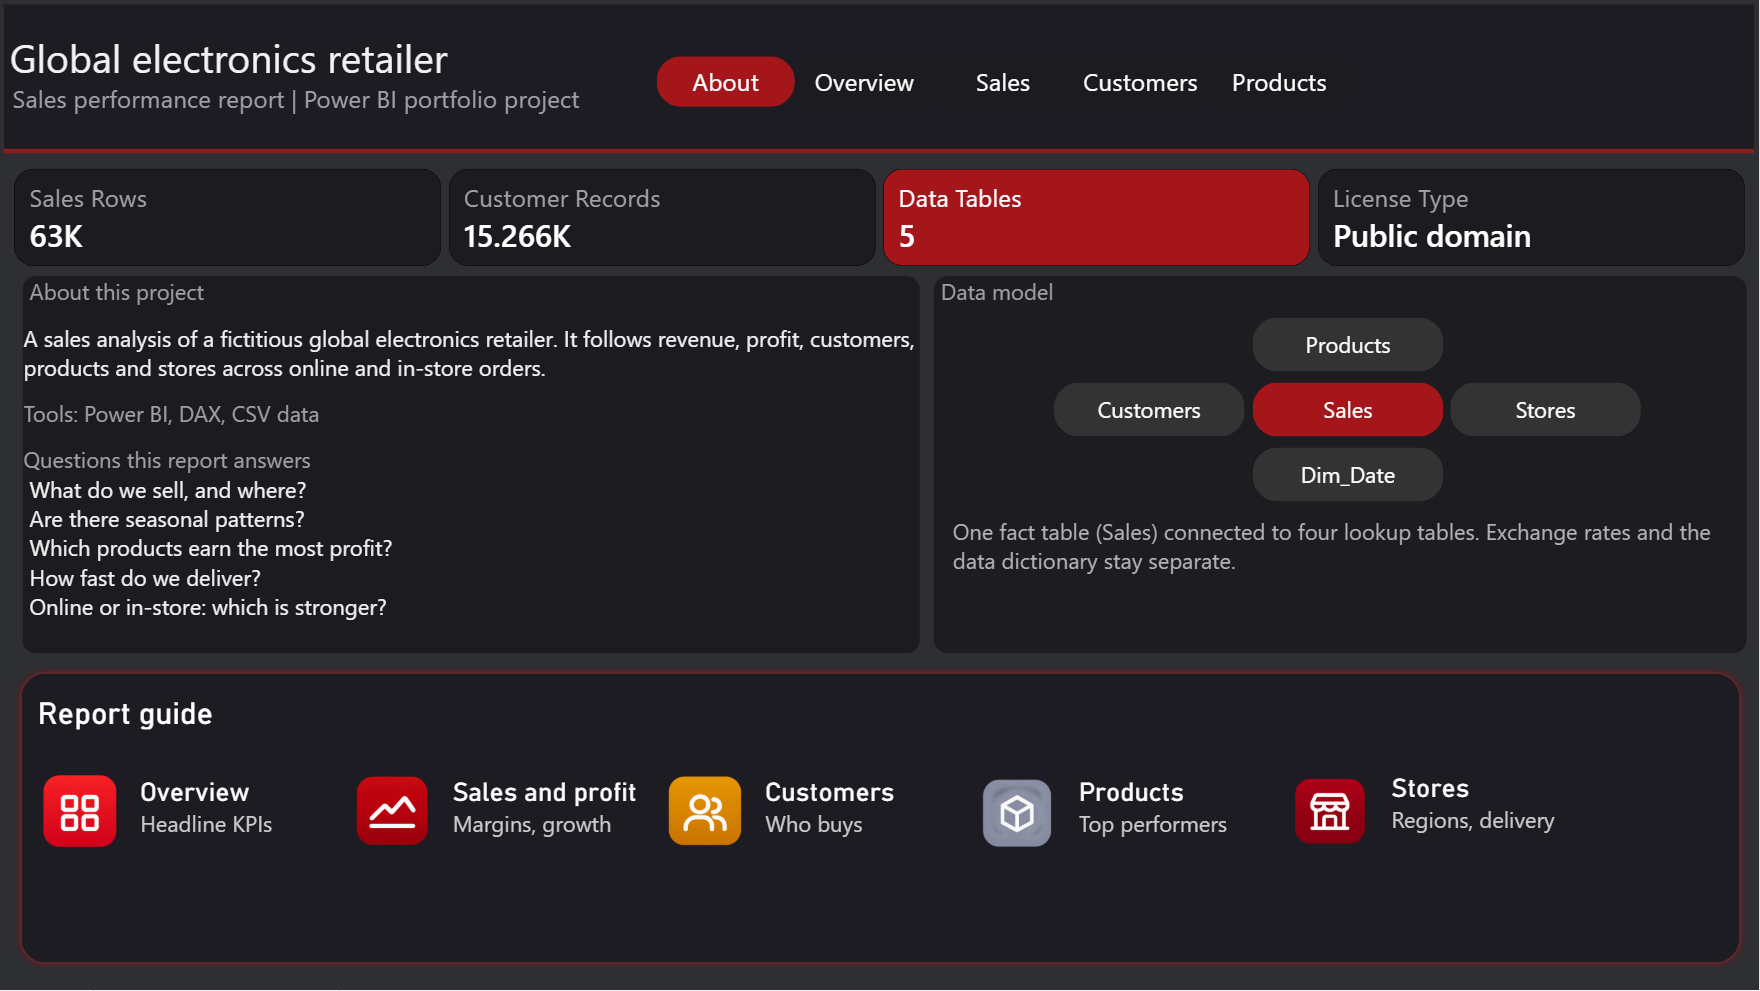

What the dashboard file says about the page in this screenshot:
{"tool":"powerbi","page":{"name":"About","canvas":[1920,1080],"ordinal":0},"visuals":[{"type":"shape","box":[0,0,1919.6,167.5],"z":0},{"type":"textbox","box":[0,33.1,1919.6,134.4],"z":1000},{"type":"actionButton","box":[717.8,60.7,150.9,55.2],"z":2000},{"type":"actionButton","box":[868.7,60.7,150.9,55.2],"z":3000},{"type":"actionButton","box":[1019.6,60.7,150.9,55.2],"z":4000},{"type":"actionButton","box":[1170.6,60.7,150.9,55.2],"z":5000},{"type":"actionButton","box":[1321.5,60.7,150.9,55.2],"z":6000},{"type":"cardVisual","fields":{"Data":["Sales.Sales Rows","Sales.Customer Records","Customers.Data Tables","Customers.License Type"]},"box":[16.6,184.1,1890.2,106.7],"z":8000},{"type":"textbox","box":[26.2,301.2,978.8,411.2],"z":9000},{"type":"textbox","box":[1020,301.2,886.2,411.2],"z":10000},{"type":"actionButton","box":[1367.5,417.8,208,58.9],"z":11000},{"type":"actionButton","box":[1150.3,417.8,208,58.9],"z":12000},{"type":"actionButton","box":[1367.5,487.7,208,58.9],"z":13000},{"type":"actionButton","box":[1582.8,417.8,208,58.9],"z":14000},{"type":"actionButton","box":[1367.5,346,208,58.9],"z":15000},{"type":"shape","box":[16.6,727,1890.2,331.3],"z":16000},{"type":"textbox","title":"Report guide","box":[42.3,758.3,300,71.8],"z":17000},{"type":"image","box":[42.3,831,92,106.7],"z":18000},{"type":"textbox","title":"Overview","box":[154.8,846.7,207.8,81.1],"z":19000},{"type":"textbox","box":[1039.9,563.2,844.8,116],"z":20000},{"type":"image","box":[383,831,92,106.7],"z":21000},{"type":"textbox","title":"Sales and profit","box":[495.4,846.6,207.8,81.1],"z":22000},{"type":"image","box":[723.6,830.2,92,106.7],"z":23000},{"type":"textbox","title":"Customers","box":[836,846.7,208.8,81.2],"z":24000},{"type":"image","box":[1065.2,831.9,92,106.7],"z":25000},{"type":"textbox","title":"Products","box":[1177.6,846.6,208,81],"z":26000},{"type":"image","box":[1406,830.1,92,106.7],"z":27000},{"type":"textbox","title":"Stores","box":[1518.4,842.9,208,81],"z":28000}]}

Visuals, with their boxes in screenshot pixels (x1, y1, x2, y2), scaled from the page's 1920x1080 canvas onto the 1760x991 screenshot:
shape: region(0, 0, 1759, 154)
textbox: region(0, 30, 1759, 154)
actionButton: region(658, 56, 796, 106)
actionButton: region(796, 56, 935, 106)
actionButton: region(935, 56, 1073, 106)
actionButton: region(1073, 56, 1211, 106)
actionButton: region(1211, 56, 1350, 106)
cardVisual - Sales.Sales Rows x Sales.Customer Records: region(15, 169, 1748, 267)
textbox: region(24, 276, 921, 654)
textbox: region(935, 276, 1747, 654)
actionButton: region(1254, 383, 1444, 437)
actionButton: region(1054, 383, 1245, 437)
actionButton: region(1254, 448, 1444, 502)
actionButton: region(1451, 383, 1642, 437)
actionButton: region(1254, 317, 1444, 372)
shape: region(15, 667, 1748, 971)
"Report guide" textbox: region(39, 696, 314, 762)
image: region(39, 763, 123, 860)
"Overview" textbox: region(142, 777, 332, 851)
textbox: region(953, 517, 1728, 623)
image: region(351, 763, 435, 860)
"Sales and profit" textbox: region(454, 777, 645, 851)
image: region(663, 762, 748, 860)
"Customers" textbox: region(766, 777, 958, 851)
image: region(976, 763, 1061, 861)
"Products" textbox: region(1079, 777, 1270, 851)
image: region(1289, 762, 1373, 860)
"Stores" textbox: region(1392, 773, 1583, 848)
